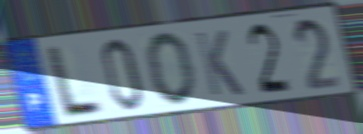0: (99, 36, 145, 113)
2: (292, 15, 343, 92), (246, 21, 294, 97)
K: (192, 28, 247, 99)
L: (45, 42, 104, 121)
O: (144, 30, 198, 108)
